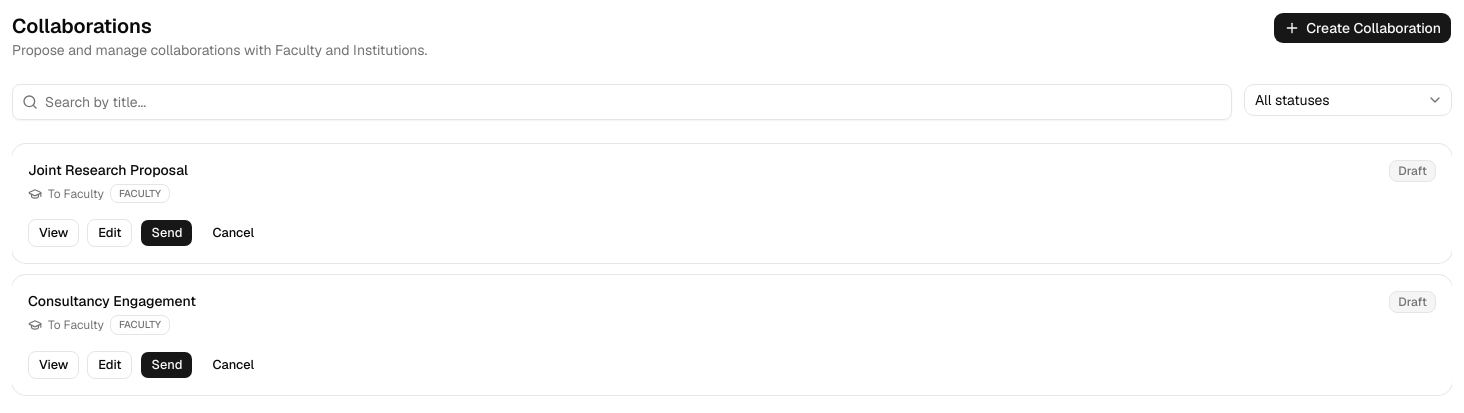
Test case: CollaborationsListView › filters by search text
The image size is (1464, 413).
expect the link "Joint Research Proposal" is shown: met, box [28, 160, 188, 180]
In the field named "Search collaborations": (622, 102) [12, 84, 1232, 120], type "consultancy"
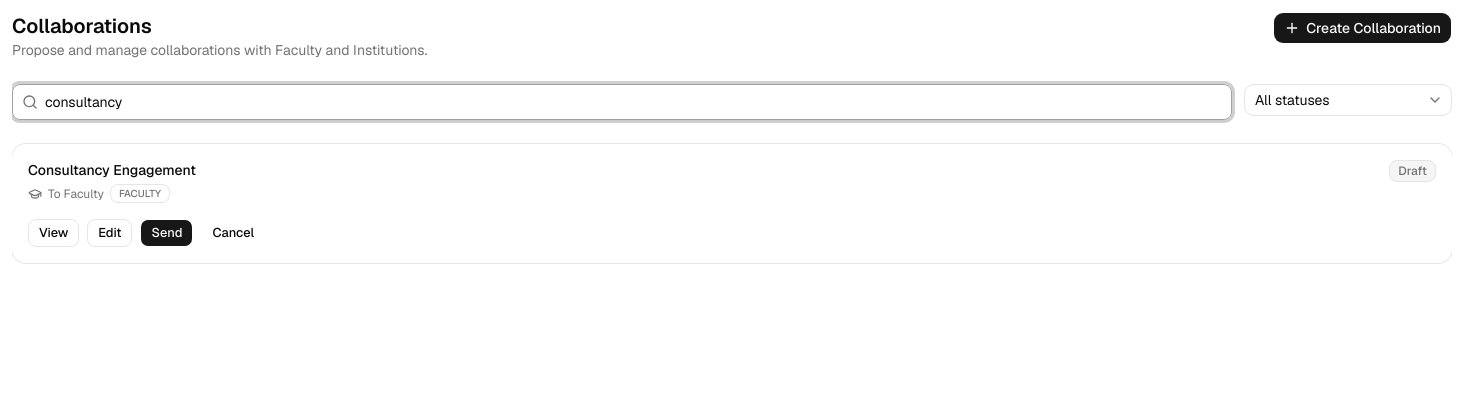
expect the link "Consultancy Engagement" is shown: met, box [28, 160, 196, 180]
expect the link "Joint Research Proposal" is gone: met
